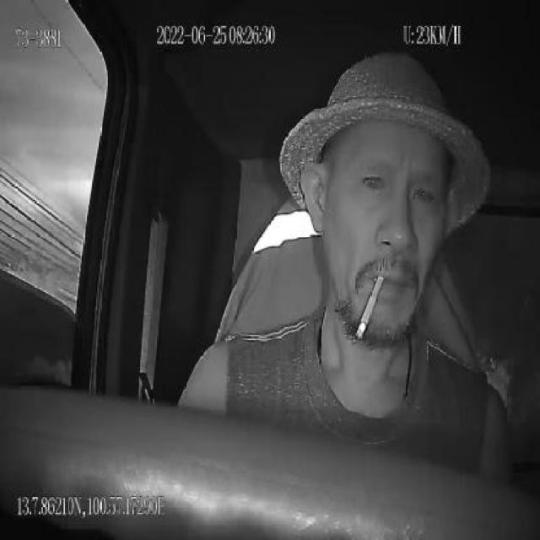smoking: (357, 276, 385, 341)
